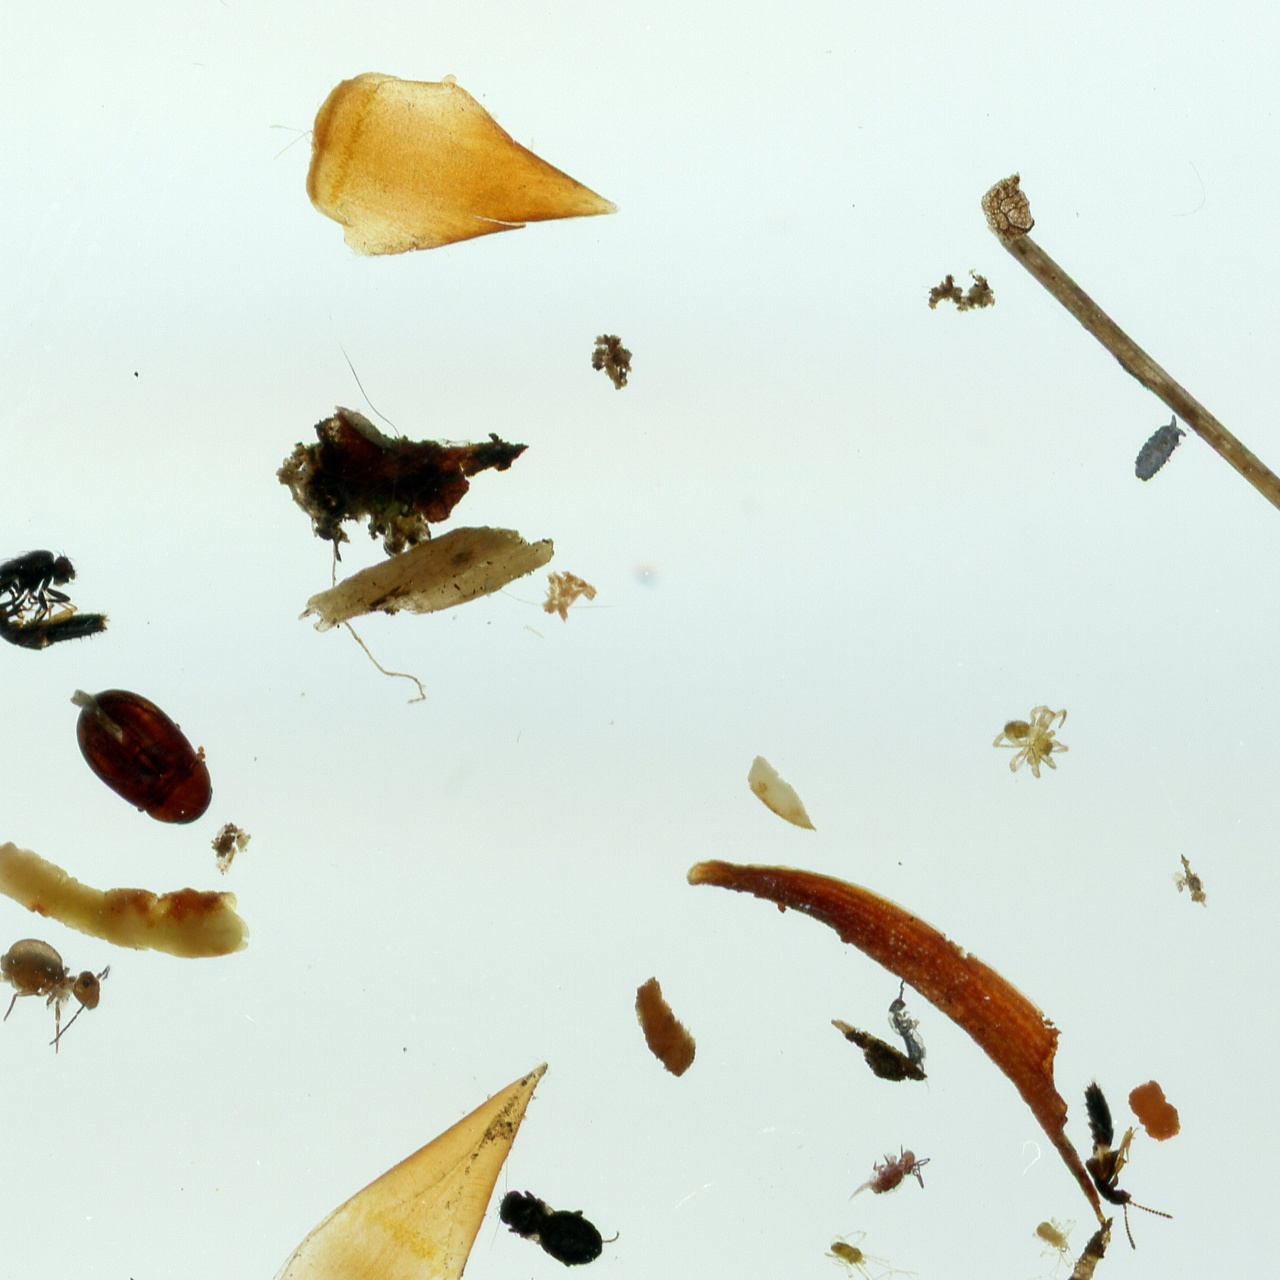arthropod: (66, 685, 217, 829), (1084, 1080, 1176, 1251), (0, 934, 111, 1050), (497, 1177, 622, 1268), (824, 1230, 956, 1280), (0, 550, 80, 625), (993, 703, 1069, 781), (850, 1142, 932, 1203), (0, 604, 111, 648), (1010, 1217, 1078, 1280), (890, 974, 928, 1073), (1135, 413, 1189, 481)
